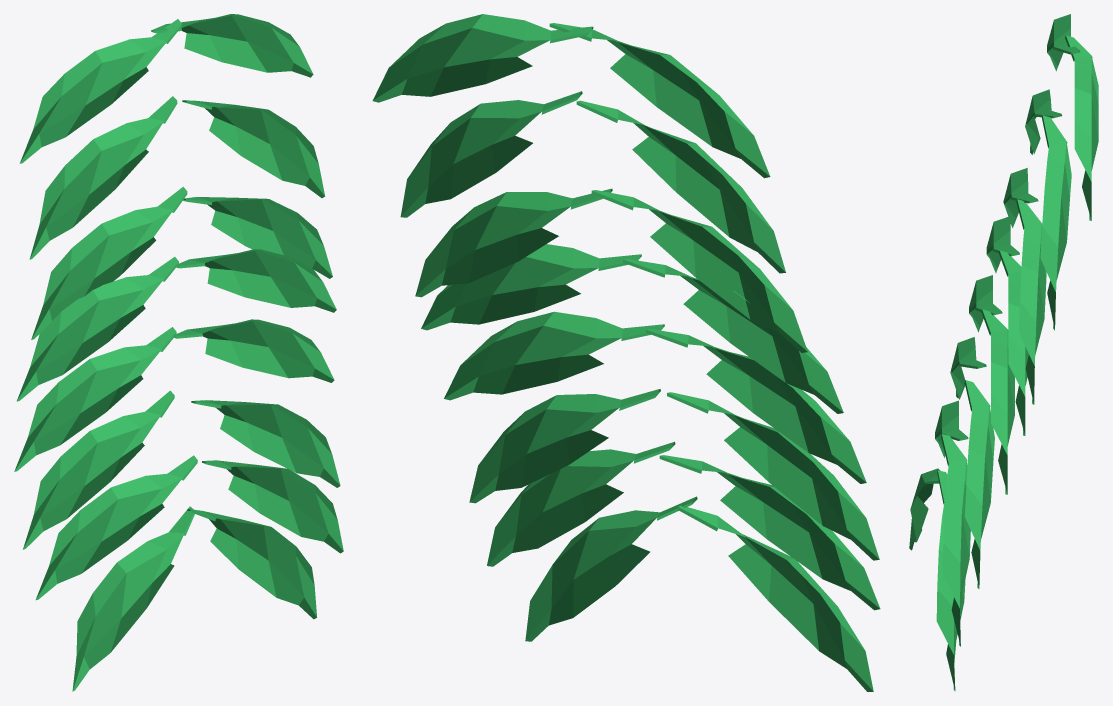
Rendered from (Leaves3).fbx.
3 views of the same model, side by side, from view 1: azimuth 30°, elevation 25°; view 2: azimuth 150°, elevation 25°; view 3: azimuth 270°, elevation 25° (orthographic). The views are drawn at different scales.
Parts seen in each view (by area): view 1: Lemon.019; view 2: Lemon.019; view 3: Lemon.019.
Boxes of the visible parts, left/top/right/bottom form: Lemon.019: left=14, top=14, right=343, bottom=691; Lemon.019: left=372, top=14, right=880, bottom=691; Lemon.019: left=909, top=14, right=1098, bottom=691.
Bounding box in the file's own units: 0.0695 × 0.1073 × 0.0306.
